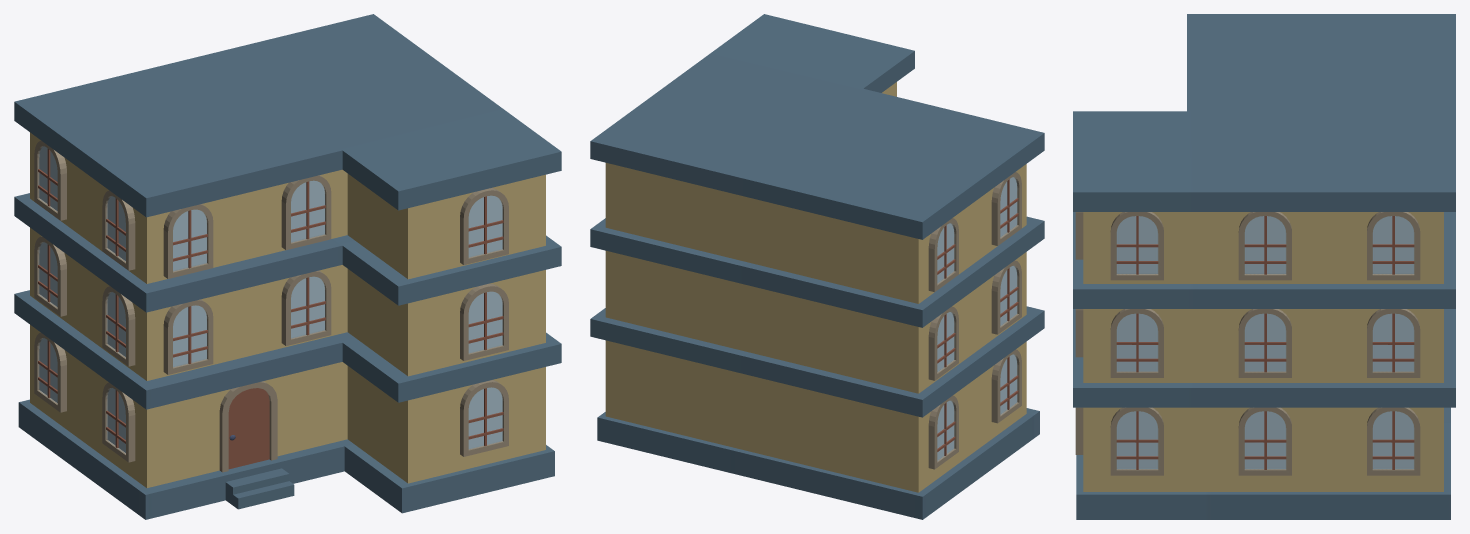
Rendered from building-in-l-002.glb.
The picture shows the model from 3 angles, left to right: view 1: azimuth 30°, elevation 25°; view 2: azimuth 150°, elevation 25°; view 3: azimuth 270°, elevation 25°; orthographic projection. The views are drawn at different scales.
Visible parts, largest first — view 1: windows.003; view 2: windows.003; view 3: windows.003.
Boxes of the visible parts, x1,y1,x2,y2 form: windows.003: (14, 14, 561, 519); windows.003: (590, 14, 1044, 519); windows.003: (1073, 14, 1455, 519).
Bounding box in the file's own units: 4.32 × 3.73 × 3.92.
1 material, 1 textured.
